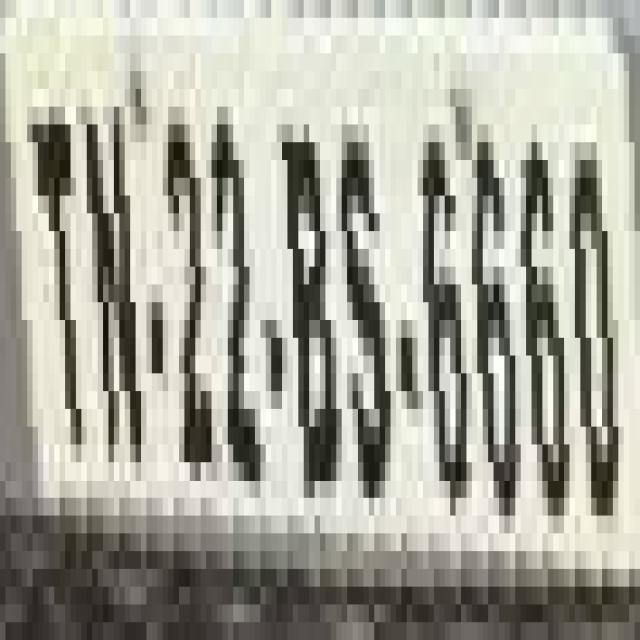license_plate: (5, 18, 640, 604)
